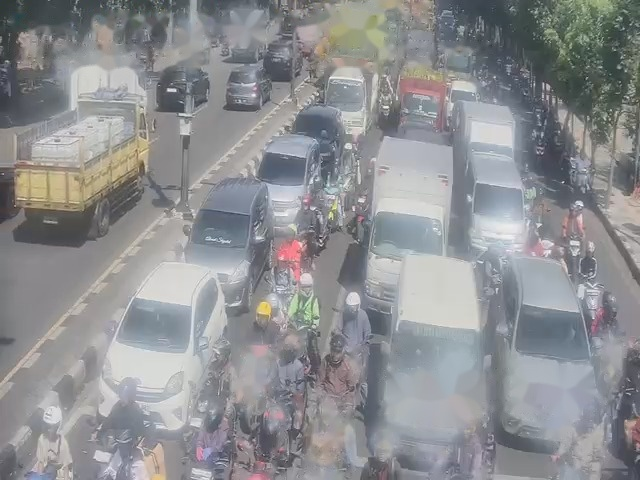Bis: (397, 62, 451, 134), (320, 65, 371, 127)
Mobil: (112, 258, 217, 406), (507, 264, 590, 420), (186, 175, 269, 288), (256, 130, 319, 217), (287, 101, 343, 168), (225, 64, 267, 110)
Motor: (581, 276, 605, 333), (367, 331, 390, 380), (192, 451, 229, 479), (345, 288, 360, 327), (564, 232, 578, 269), (325, 193, 337, 228), (529, 216, 542, 238), (537, 141, 545, 157)
Truk: (12, 63, 147, 218), (375, 138, 454, 301)
